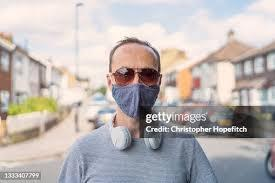mask: (107, 82, 167, 118)
sunglasses: (111, 63, 164, 88)
